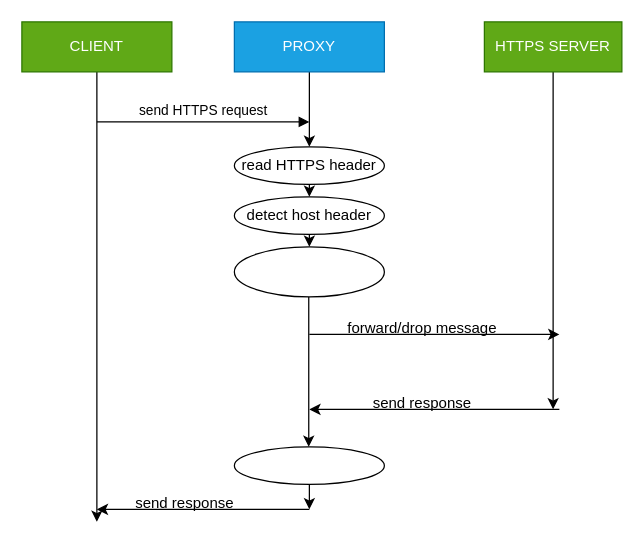
Some shapes in this 644 by 554 pixel diagram are drawn without their labels. Here are the shapes that lost their labels. From the top down, the centre of each, then its label:
At point 308,271: "manipulate header GUI".
At point 308,465: "read response".
